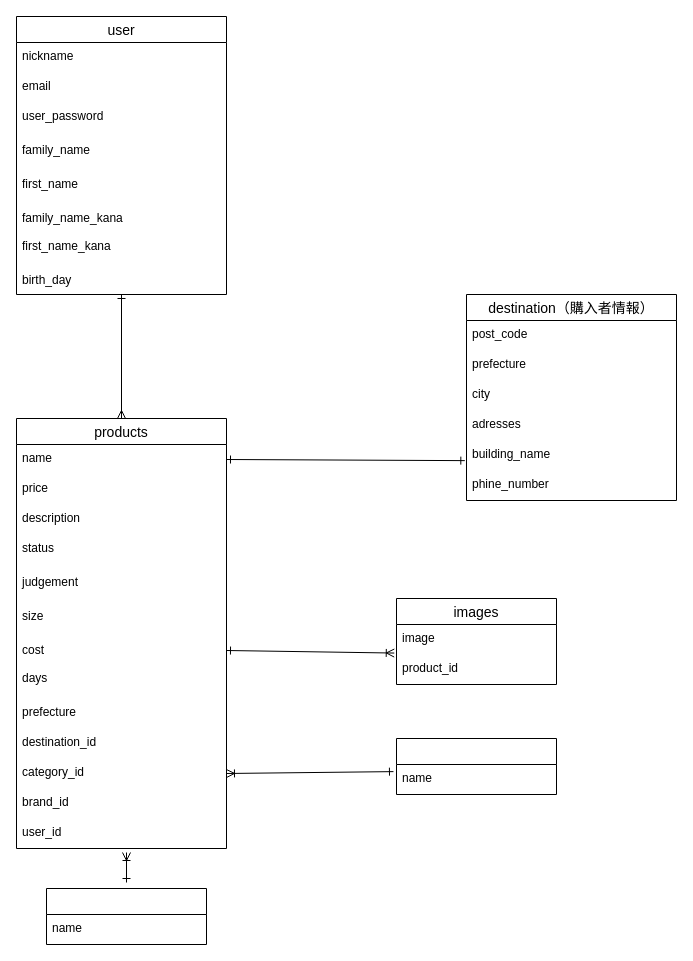
The diagram is 693 pixels wide and 961 high, and some of its shapes have lost their labels. Here are the shapes that lost their labels. From the top down, the box of each, then its label:
(396, 738, 556, 794): category
(46, 888, 206, 944): brand
